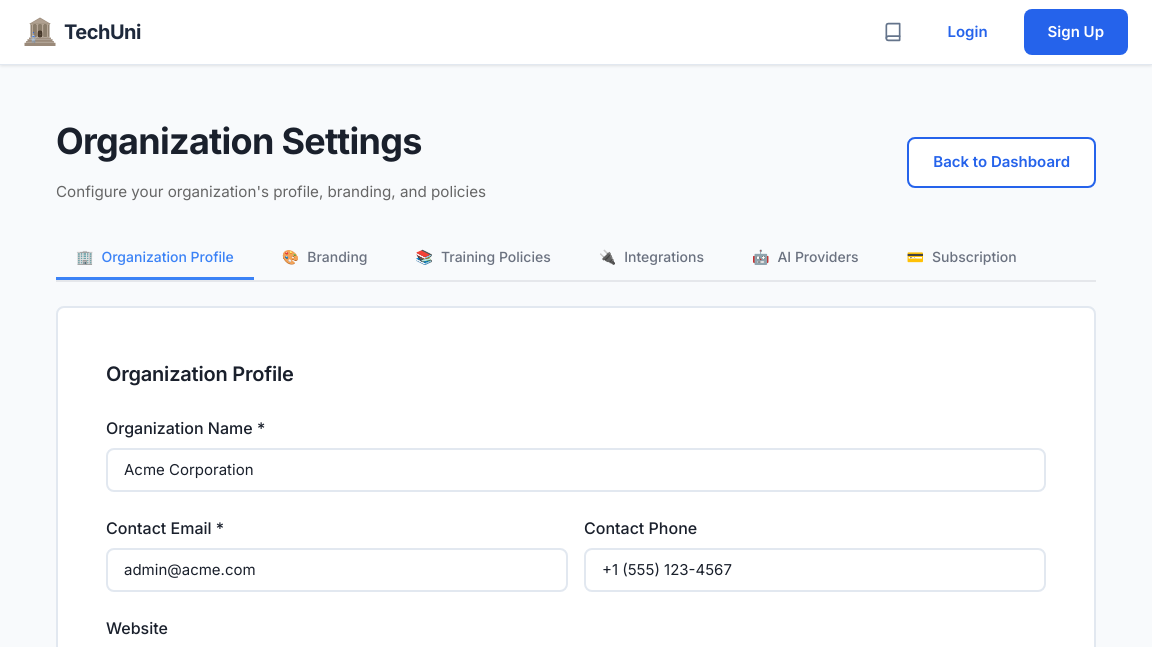
Test: OrganizationSettings Component › Tab Navigation › switches to branding tab when clicked
The width and height of the screenshot is (1152, 647).
What coordinates should you click on to do the following:
click the button "🎨Branding"
I would click on:
 (325, 258)
Its box is [262,236,388,280].
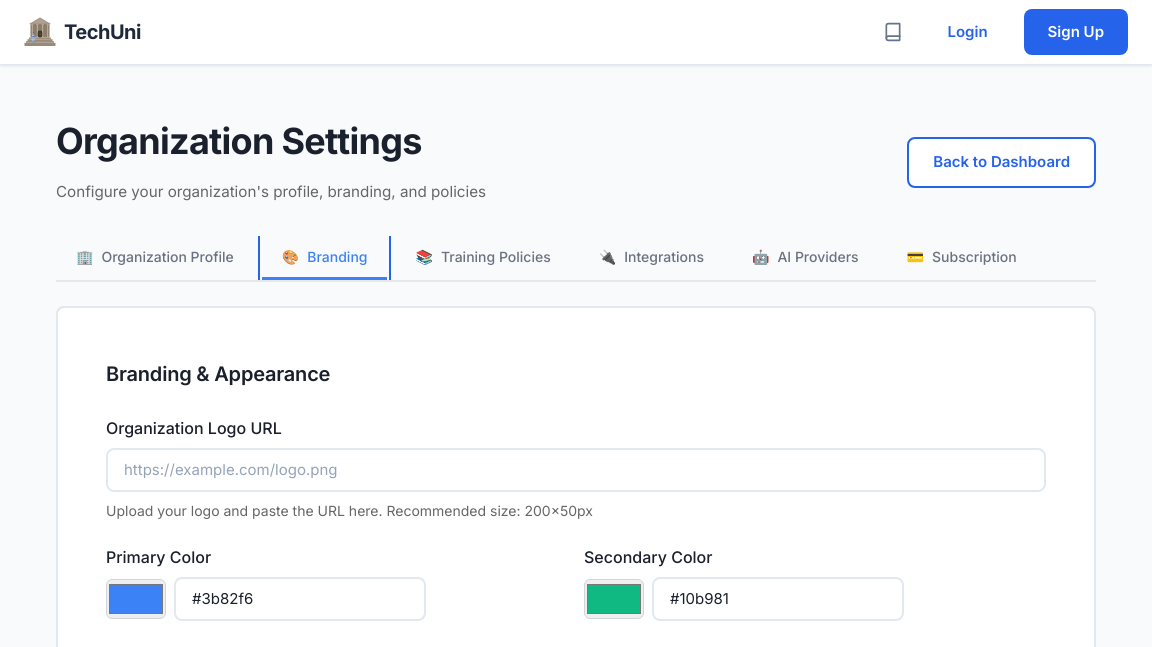
Now the colour field labelled "Primary Color" is shown, box [106,579,166,619]
